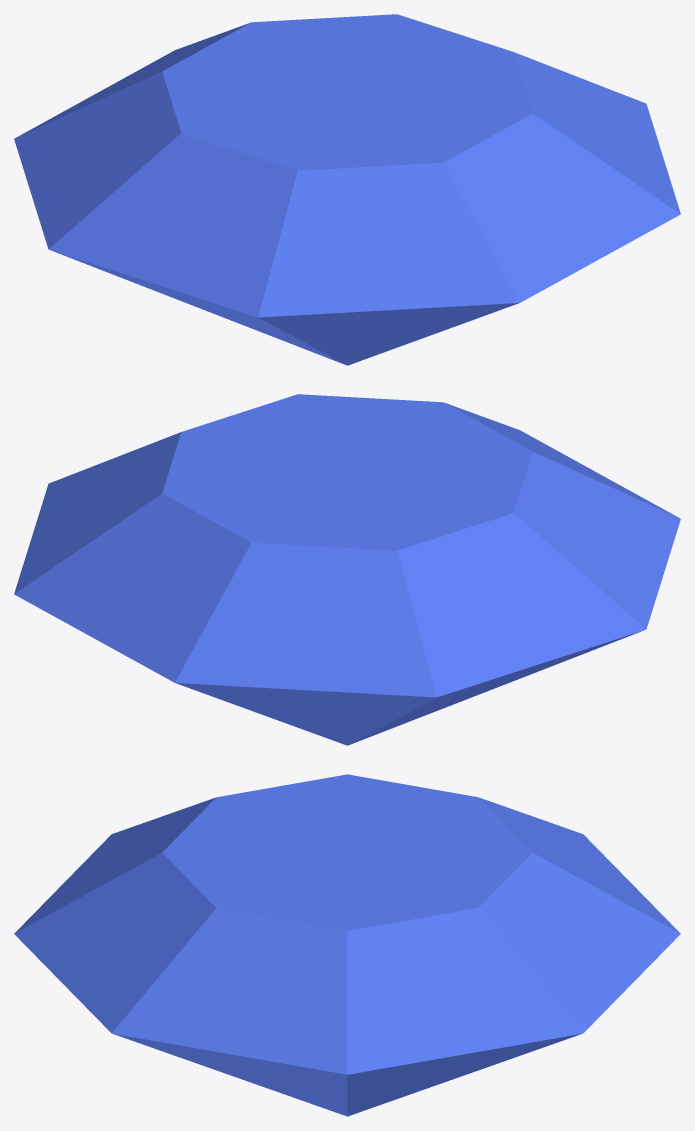
Rendered from Phiras.glb.
3 renders of one model, top to bottom at view 1: azimuth 30°, elevation 25°; view 2: azimuth 150°, elevation 25°; view 3: azimuth 270°, elevation 25°, orthographic. The views are drawn at different scales.
Parts seen in each view (by area): view 1: Phiras_75; view 2: Phiras_75; view 3: Phiras_75.
Boxes of the visible parts, x1,y1,x2,y2 form: Phiras_75: [14, 14, 680, 365]; Phiras_75: [14, 394, 680, 745]; Phiras_75: [14, 774, 680, 1116].
Bounding box in the file's own units: 1.88 × 0.8195 × 1.88.
